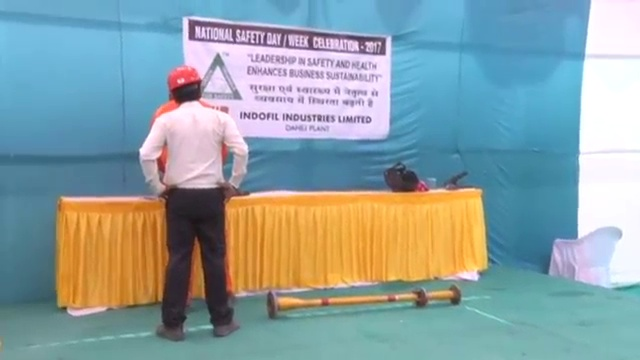helmet: (167, 64, 201, 94)
helmet_on: (168, 64, 202, 109)
person: (139, 63, 249, 341)
